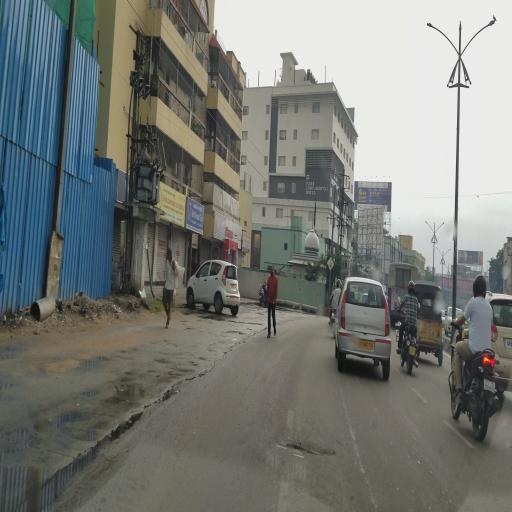street_light_0: (458, 8, 498, 58), (418, 10, 458, 60), (434, 214, 448, 242), (424, 211, 438, 239)
